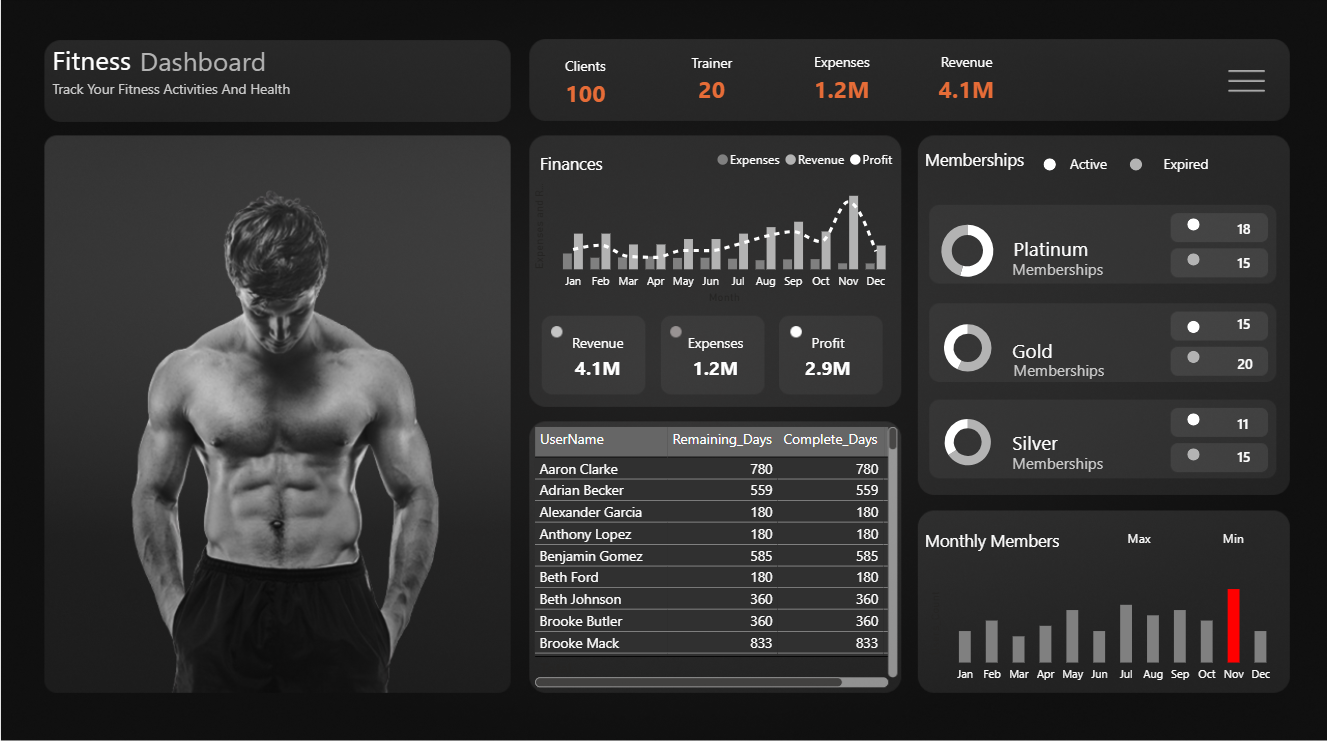

The dashboard page shown, as its layout file describes it:
{"tool":"powerbi","page":{"name":"Page 1","canvas":[1280,720],"ordinal":0},"visuals":[{"type":"cardVisual","fields":{"Data":["_Measures.Revenue"]},"box":[875.9,38.6,112.5,79.6],"z":0},{"type":"cardVisual","fields":{"Data":["_Measures.Expenses"]},"box":[754,38.6,115.3,79.6],"z":1000},{"type":"cardVisual","fields":{"Data":["_Measures.Users_Count"]},"box":[509.1,42.2,110,80],"z":2000},{"type":"cardVisual","fields":{"Data":["Count(Users.Trainer Name)"]},"box":[631,38.6,110,80],"z":3000},{"type":"cardVisual","fields":{"Data":["_Measures.Revenue"]},"box":[520.1,304.6,112.5,83.7],"z":4000},{"type":"cardVisual","fields":{"Data":["_Measures.Expenses"]},"box":[632.6,300.5,115.3,93.3],"z":5000},{"type":"cardVisual","fields":{"Data":["_Measures.Profit"]},"box":[741,300.5,115.3,93.3],"z":6000},{"type":"lineClusteredColumnComboChart","fields":{"Y":["_Measures.Expenses","_Measures.Revenue"],"Y2":["_Measures.Profit"],"Category":["Calender.Month"]},"box":[509.1,137.2,360.9,163.3],"z":7000},{"type":"shape","box":[520.1,137.2,170.2,45.3],"z":8000},{"type":"clusteredColumnChart","fields":{"Y":["_Measures.Users_Count"],"Category":["Calender.Month"]},"box":[891.9,553,345.8,118],"z":9000},{"type":"shape","box":[891.9,509.1,170.2,28.8],"z":10000},{"type":"advancedSlicerVisual","fields":{"Values":["Min_Max_Switch.Type"]},"box":[1052.5,492.6,185.2,60.4],"z":11000},{"type":"tableEx","fields":{"Values":["Users.UserName","_Measures.Remaining_Days","_Measures.Complete_Days","Users.Status"]},"box":[509.1,410.3,360.9,260.7],"z":12000},{"type":"shape","box":[977,223.7,146,38.4],"z":13000},{"type":"shape","box":[975.6,321.1,146,38.4],"z":14000},{"type":"shape","box":[975.6,410.3,146,38.4],"z":15000},{"type":"shape","box":[975.6,242.9,170.2,38.4],"z":16000},{"type":"shape","box":[977,340.3,146,38.4],"z":17000},{"type":"shape","box":[975.6,429.5,146,38.4],"z":18000},{"type":"donutChart","fields":{"Y":["_Measures.User_Platinum"],"Category":["Users.Status"]},"box":[890.6,208.6,85.1,72.7],"z":19000},{"type":"donutChart","fields":{"Y":["_Measures.User_Gold"],"Category":["Users.Status"]},"box":[897.4,304.6,71.4,67.2],"z":20000},{"type":"donutChart","fields":{"Y":["_Measures.User_Silver"],"Category":["Users.Status"]},"box":[897.4,396.6,71.4,65.9],"z":21000},{"type":"cardVisual","fields":{"Data":["_Measures.Platinum_Active"]},"box":[1163.6,190.7,93.3,64.5],"z":22000},{"type":"cardVisual","fields":{"Data":["_Measures.Platinum_Expired"]},"box":[1163.6,223.7,93.3,64.5],"z":23000},{"type":"cardVisual","fields":{"Data":["_Measures.Gold_Active"]},"box":[1163.6,282.7,93.3,64.5],"z":24000},{"type":"cardVisual","fields":{"Data":["_Measures.Gold_Expired"]},"box":[1163.6,321.1,93.3,64.5],"z":25000},{"type":"cardVisual","fields":{"Data":["_Measures.silver_Active"]},"box":[1163.6,378.7,93.3,64.5],"z":26000},{"type":"cardVisual","fields":{"Data":["_Measures.Platinum_Expired"]},"box":[1163.6,410.3,93.3,64.5],"z":27000},{"type":"shape","box":[1144.4,214.1,12,12],"z":28000},{"type":"shape","box":[1144.4,247,12,12],"z":29000},{"type":"shape","box":[1144.4,312.9,12,12],"z":30000},{"type":"shape","box":[1144.4,341.7,12,12],"z":31000},{"type":"shape","box":[1144.4,402.1,12,12],"z":32000},{"type":"shape","box":[1144.4,435,12,12],"z":33000},{"type":"shape","box":[891.9,134.5,170.2,45.3],"z":34000},{"type":"shape","box":[1005.8,155.1,12,12],"z":35000},{"type":"shape","box":[1089.5,155.1,12,12],"z":36000},{"type":"shape","box":[1031.9,141.3,157.8,38.4],"z":37000},{"type":"shape","box":[1122.5,141.3,157.8,38.4],"z":38000},{"type":"shape","box":[49.4,37,170.2,45.3],"z":39000},{"type":"shape","box":[134.5,38.4,170.2,45.3],"z":40000},{"type":"shape","box":[49.4,71.4,255.2,32.9],"z":41000},{"type":"image","box":[1174.6,59,56.3,45.3],"z":42000}]}

Visuals, with their boxes in screenshot pixels (x1, y1, x2, y2), scaled from the page's 1280x720 canvas onto the 1327x741 screenshot:
cardVisual - _Measures.Revenue: x1=908 y1=40 x2=1025 y2=122
cardVisual - _Measures.Expenses: x1=782 y1=40 x2=901 y2=122
cardVisual - _Measures.Users_Count: x1=528 y1=43 x2=642 y2=126
cardVisual - Count(Users.Trainer Name): x1=654 y1=40 x2=768 y2=122
cardVisual - _Measures.Revenue: x1=539 y1=313 x2=656 y2=400
cardVisual - _Measures.Expenses: x1=656 y1=309 x2=775 y2=405
cardVisual - _Measures.Profit: x1=768 y1=309 x2=888 y2=405
lineClusteredColumnComboChart - _Measures.Expenses x _Measures.Revenue: x1=528 y1=141 x2=902 y2=309
shape: x1=539 y1=141 x2=716 y2=188
clusteredColumnChart - _Measures.Users_Count x Calender.Month: x1=925 y1=569 x2=1283 y2=691
shape: x1=925 y1=524 x2=1101 y2=554
advancedSlicerVisual - Min_Max_Switch.Type: x1=1091 y1=507 x2=1283 y2=569
tableEx - Users.UserName x _Measures.Remaining_Days: x1=528 y1=422 x2=902 y2=691
shape: x1=1013 y1=230 x2=1164 y2=270
shape: x1=1011 y1=330 x2=1163 y2=370
shape: x1=1011 y1=422 x2=1163 y2=462
shape: x1=1011 y1=250 x2=1188 y2=290
shape: x1=1013 y1=350 x2=1164 y2=390
shape: x1=1011 y1=442 x2=1163 y2=482
donutChart - _Measures.User_Platinum x Users.Status: x1=923 y1=215 x2=1012 y2=290
donutChart - _Measures.User_Gold x Users.Status: x1=930 y1=313 x2=1004 y2=383
donutChart - _Measures.User_Silver x Users.Status: x1=930 y1=408 x2=1004 y2=476
cardVisual - _Measures.Platinum_Active: x1=1206 y1=196 x2=1303 y2=263
cardVisual - _Measures.Platinum_Expired: x1=1206 y1=230 x2=1303 y2=297
cardVisual - _Measures.Gold_Active: x1=1206 y1=291 x2=1303 y2=357
cardVisual - _Measures.Gold_Expired: x1=1206 y1=330 x2=1303 y2=397
cardVisual - _Measures.silver_Active: x1=1206 y1=390 x2=1303 y2=456
cardVisual - _Measures.Platinum_Expired: x1=1206 y1=422 x2=1303 y2=489
shape: x1=1186 y1=220 x2=1199 y2=233
shape: x1=1186 y1=254 x2=1199 y2=267
shape: x1=1186 y1=322 x2=1199 y2=334
shape: x1=1186 y1=352 x2=1199 y2=364
shape: x1=1186 y1=414 x2=1199 y2=426
shape: x1=1186 y1=448 x2=1199 y2=460
shape: x1=925 y1=138 x2=1101 y2=185
shape: x1=1043 y1=160 x2=1055 y2=172
shape: x1=1130 y1=160 x2=1142 y2=172
shape: x1=1070 y1=145 x2=1233 y2=185
shape: x1=1164 y1=145 x2=1326 y2=185
shape: x1=51 y1=38 x2=228 y2=85
shape: x1=139 y1=40 x2=316 y2=86
shape: x1=51 y1=73 x2=316 y2=107
image: x1=1218 y1=61 x2=1276 y2=107
